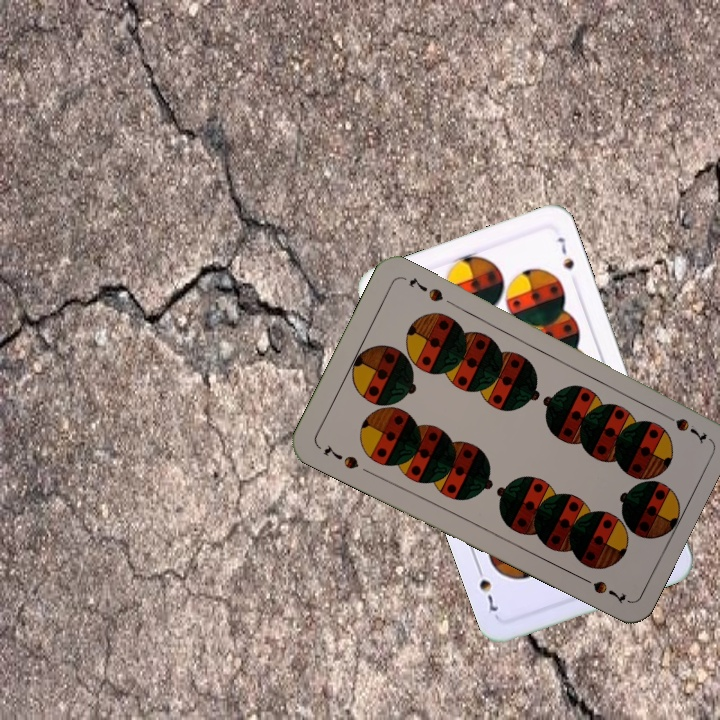S7: (655, 407, 710, 444), (319, 441, 362, 472)
